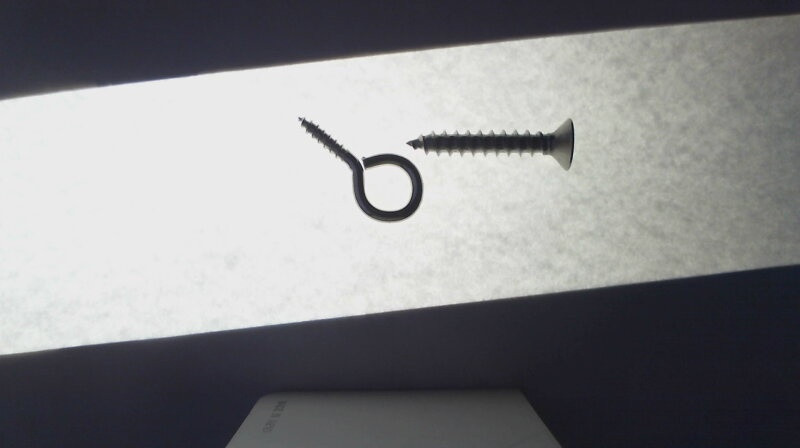O001: (295, 114, 424, 222)
S001: (403, 117, 577, 167)
